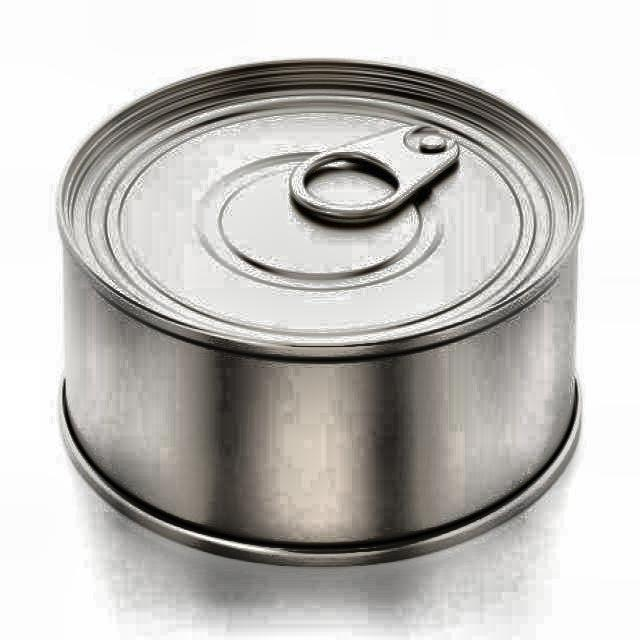metal: (54, 60, 584, 572)
